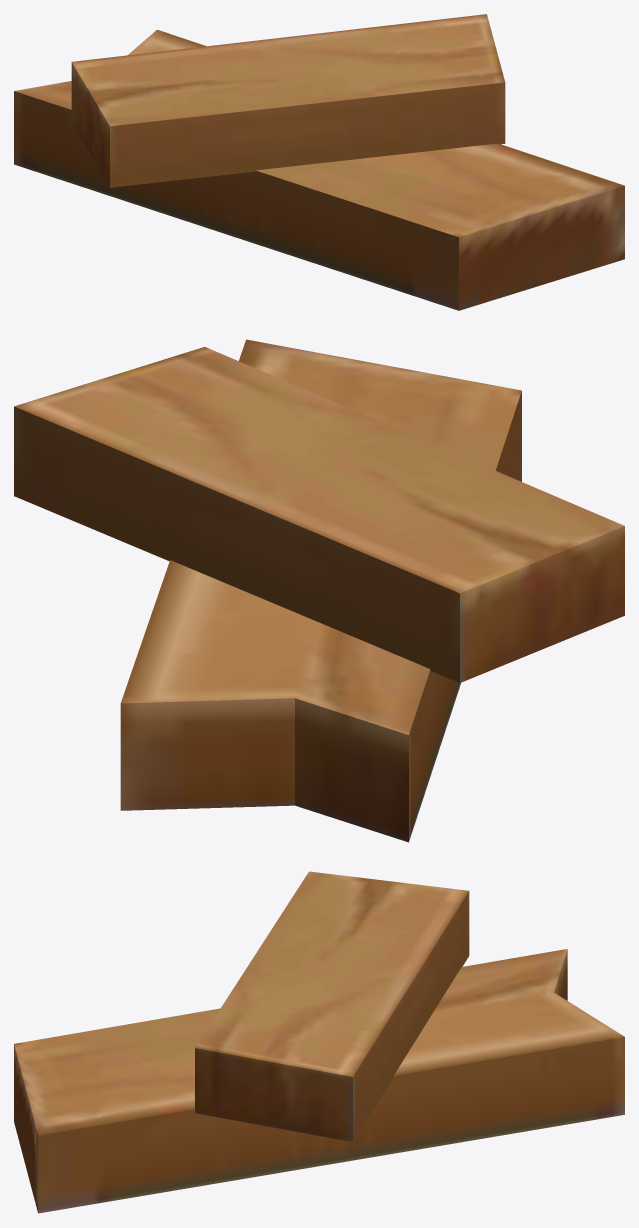
Rendered from caodi_suimutou_02.fbx.
3 views of the same model, one above another, from view 1: azimuth 30°, elevation 25°; view 2: azimuth 150°, elevation 25°; view 3: azimuth 270°, elevation 25° (orthographic). The views are drawn at different scales.
Visible parts, largest first — view 1: caodi_suimutou_02; view 2: caodi_suimutou_02; view 3: caodi_suimutou_02.
Boxes of the visible parts, x1,y1,x2,y2 form: caodi_suimutou_02: (14,14,624,310); caodi_suimutou_02: (14,339,624,842); caodi_suimutou_02: (14,871,624,1213).
Bounding box in the file's own units: 1.88 × 0.6042 × 2.36.
